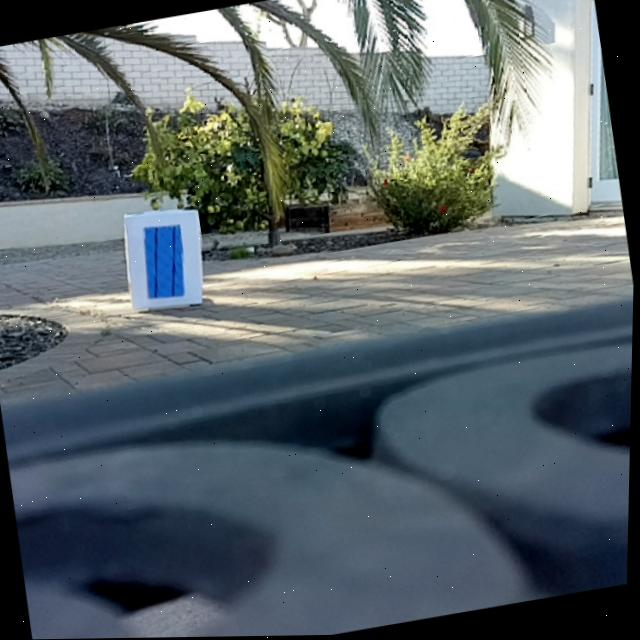led: (140, 223, 191, 303)
